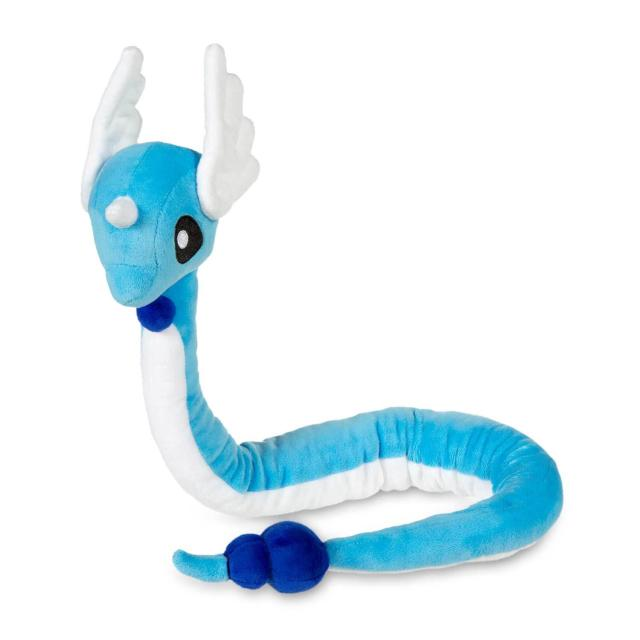Dragonair: (64, 39, 344, 595)
